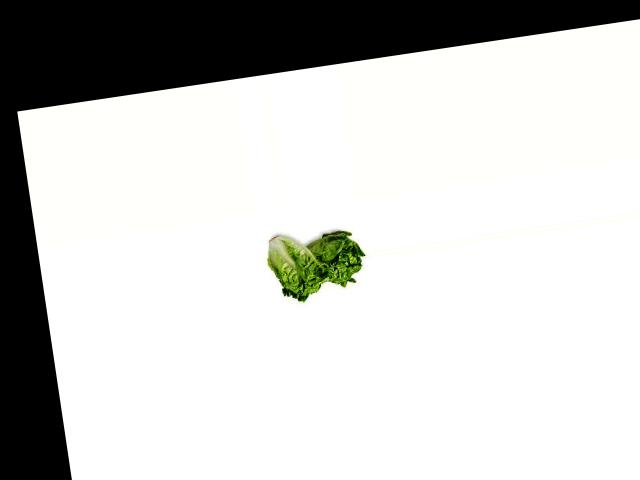lettuce: (299, 220, 368, 292)
